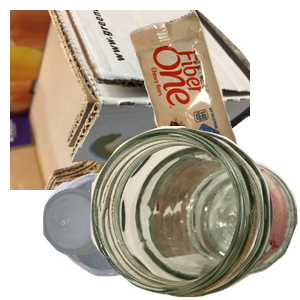cardboard: (10, 10, 250, 190)
glass: (90, 126, 300, 300)
plastic: (40, 170, 187, 300)
trash: (127, 10, 300, 190)
